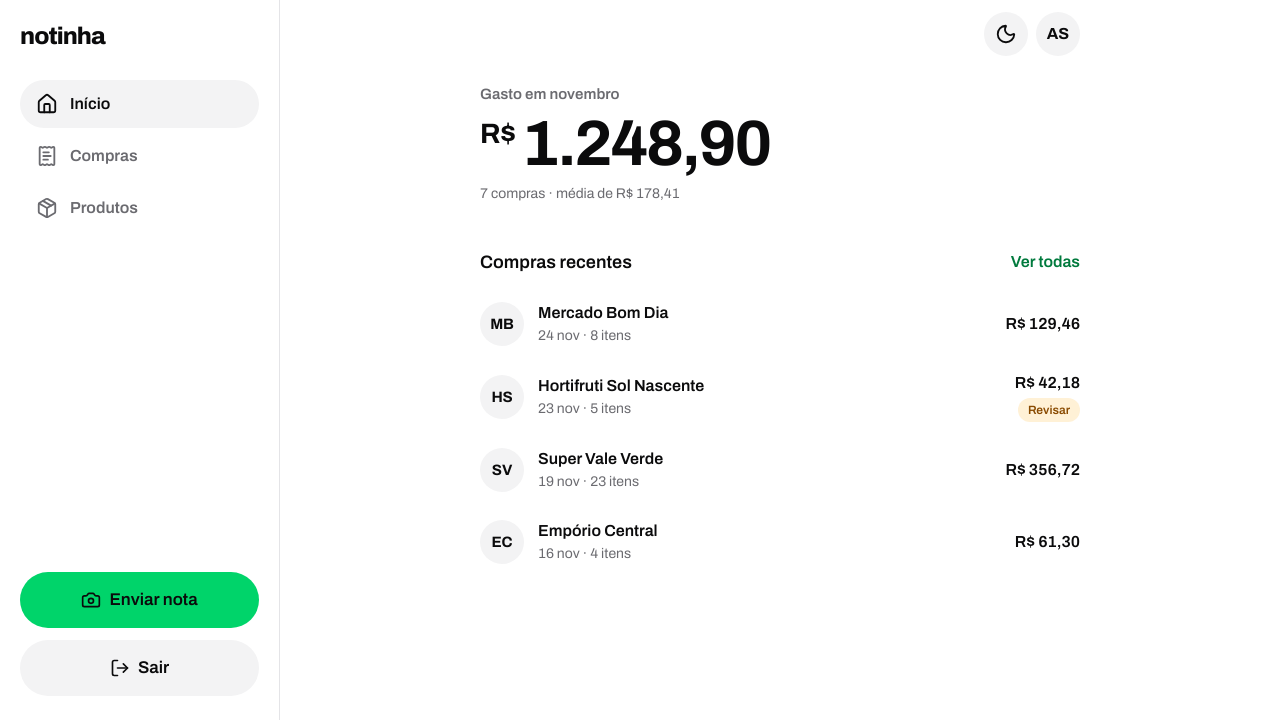
Test: authentication › the profile button shows the user data
The image size is (1280, 720).
Click the button with aria-label "Seu perfil" at x=1058, y=34, box [1036,12,1080,56]
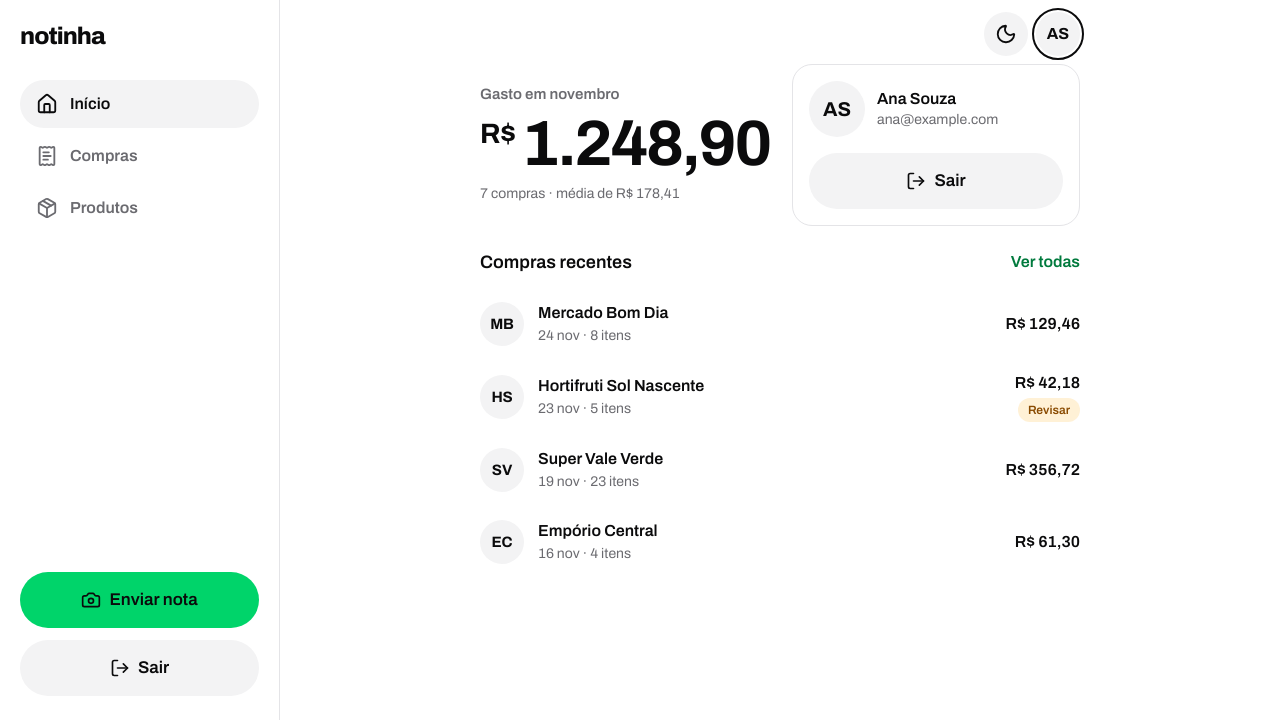
Result: the text "Ana Souza" is shown at [877,90,956,107]
Result: the text "ana@example.com" is shown at [877,110,998,130]
Press Escape
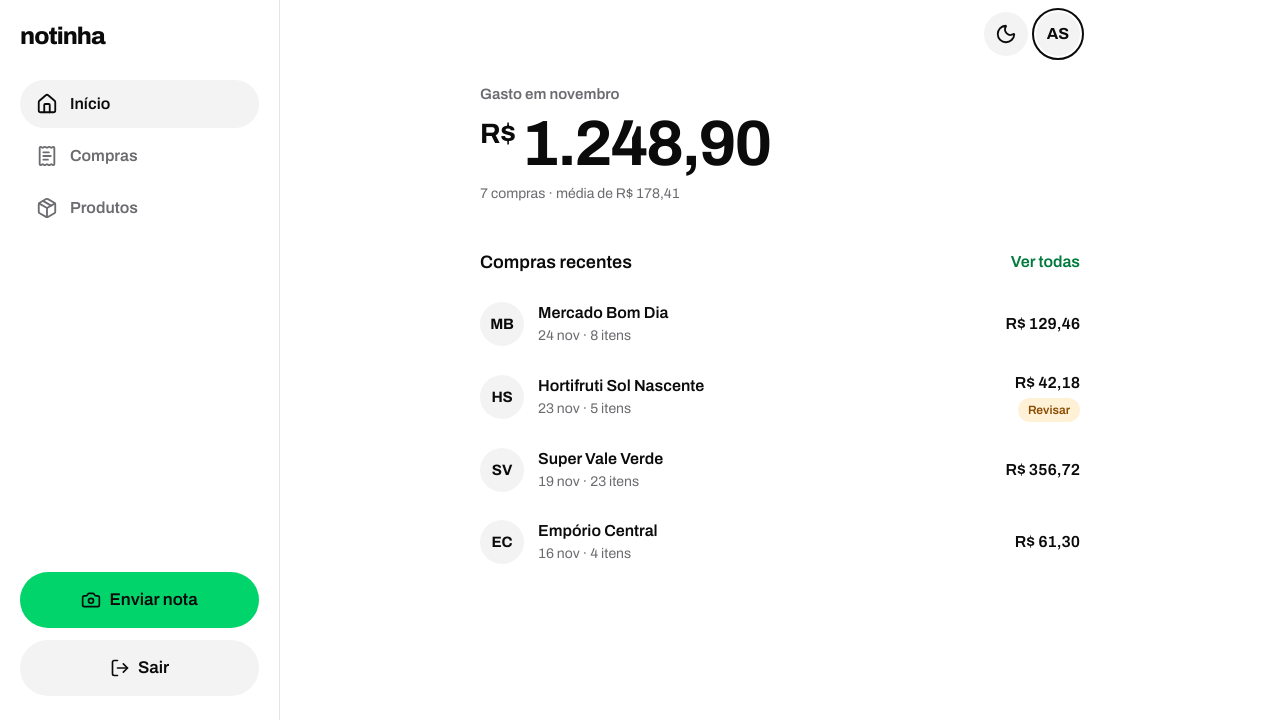
Result: the text "ana@example.com" is gone
